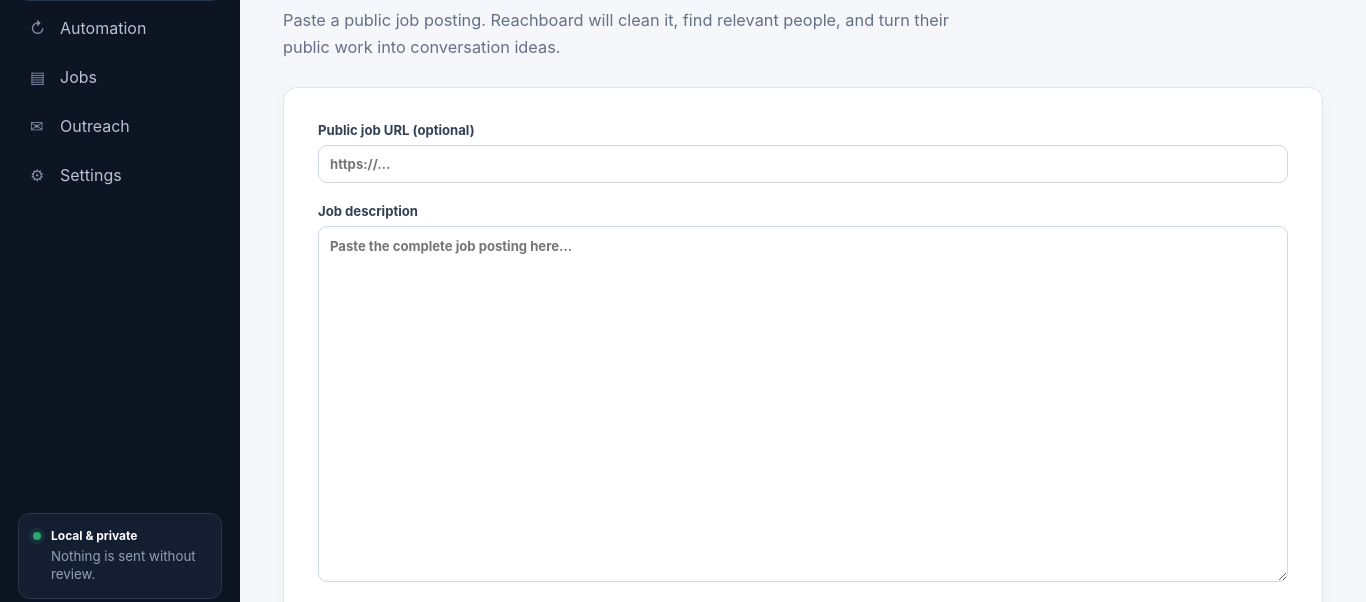
Test: pasted job flows to public evidence and conversation ideas
This screenshot has width=1366, height=602.
Step 1. Type "Data Engineer at Example University with a full public description." into the text box labelled "Job description" → (803, 404), box [318, 226, 1288, 582]
(page scrolled)
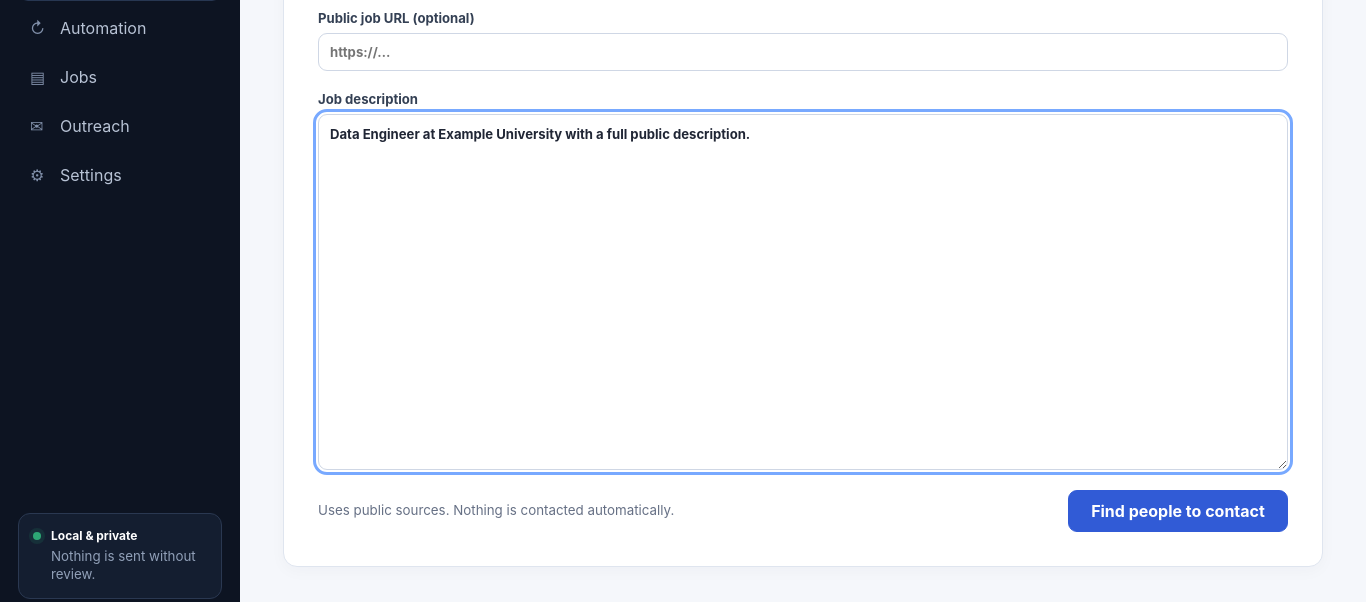
Step 2. Click the button "Find people to contact" → click(1178, 511), box [1068, 490, 1288, 532]
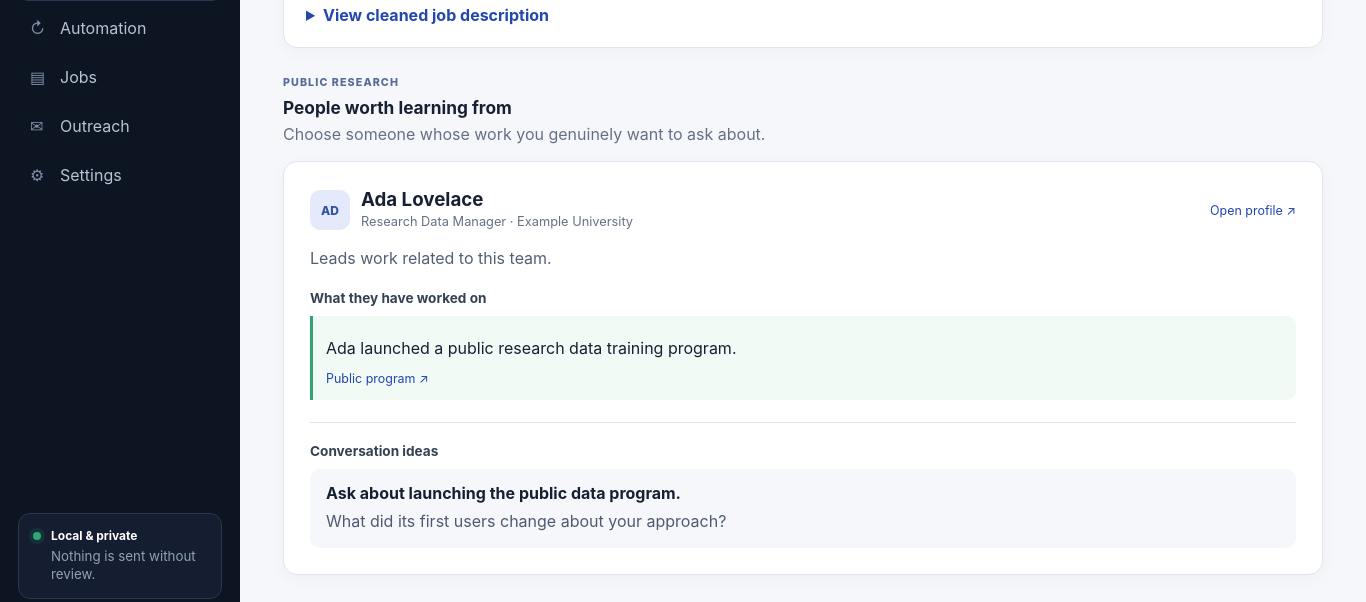
expect the heading "Ada Lovelace" is shown: met, box [361, 188, 483, 211]
expect the text "Ada launched a public research data training program." is shown: met, box [326, 338, 736, 358]
expect the text "What did its first users change about your approach?" is shown: met, box [326, 511, 726, 531]
